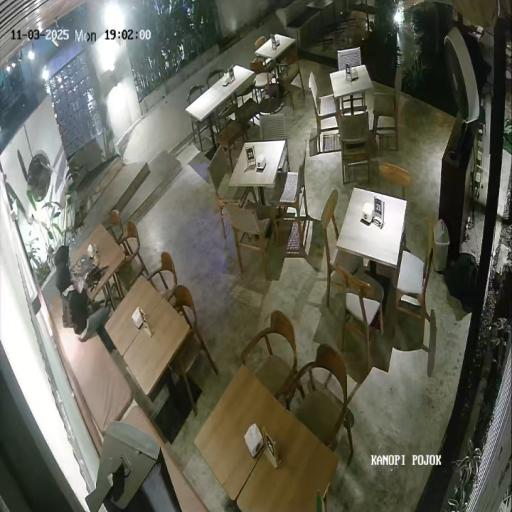Kursi: (288, 344, 359, 461), (172, 285, 218, 415), (320, 189, 363, 306), (337, 268, 383, 372), (242, 311, 297, 397), (227, 203, 277, 279), (271, 142, 308, 242), (397, 223, 432, 321), (208, 148, 246, 237), (338, 112, 374, 183), (373, 68, 402, 149), (116, 221, 149, 289), (309, 73, 337, 144), (277, 44, 305, 109), (260, 114, 289, 168), (217, 112, 244, 170), (148, 252, 177, 300), (380, 163, 411, 199), (250, 59, 274, 97), (191, 117, 208, 150), (341, 93, 365, 113), (109, 210, 123, 242), (206, 70, 225, 88)
